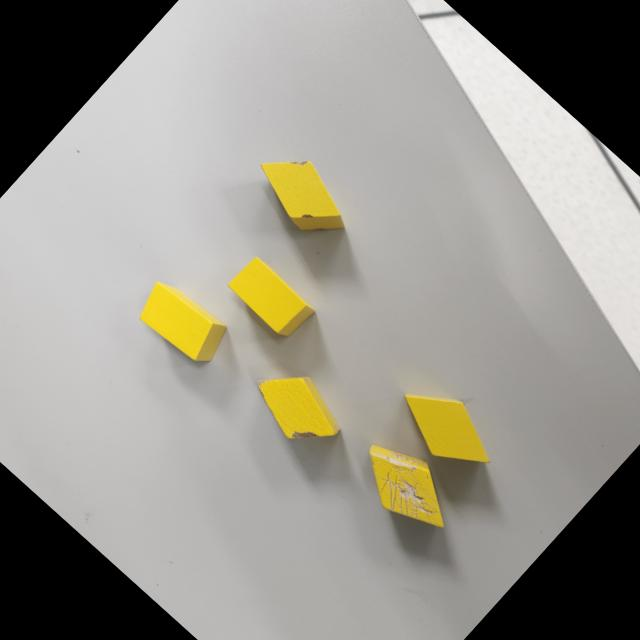broken: (344, 427, 469, 548), (242, 135, 362, 252), (241, 352, 353, 462)
yellow: (386, 367, 512, 489), (128, 270, 233, 372), (222, 250, 320, 344)
